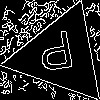P: (35, 30, 78, 81)
